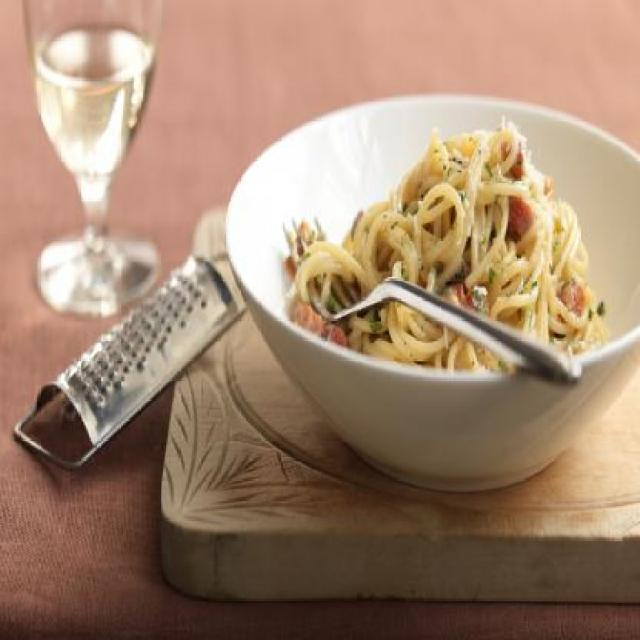Pasta with carbonara sauce: (268, 93, 620, 496)
